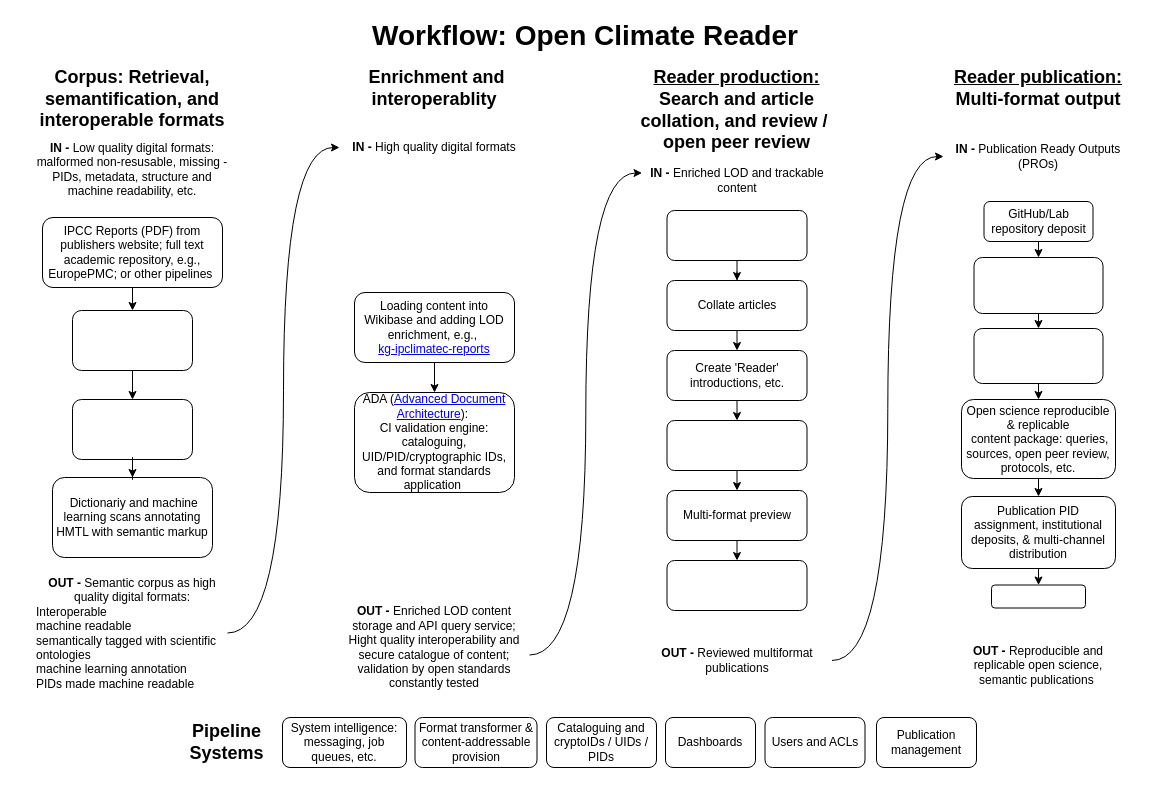
The diagram is 1150 pixels wide and 796 high, and some of its shapes have lost their labels. The shapes that lost their labels are listed below. From the top down, each one's box as (x1, y1, x2, y2) in pixels, then its label:
(666, 210, 807, 260): Search and filter articles
(973, 256, 1103, 314): Website GitHub/Lab Pages displaying all formats
(72, 310, 192, 370): py4ami processess PDFs (if needed)
(973, 328, 1103, 384): LOD access page i.e: linking to sources and all outputs, and reuse
(72, 398, 192, 460): Converted to Scholarly HTML
(666, 420, 807, 470): Review and open peer review
(666, 560, 807, 610): Multi-format publication creation
(990, 584, 1086, 608): Metrics data
